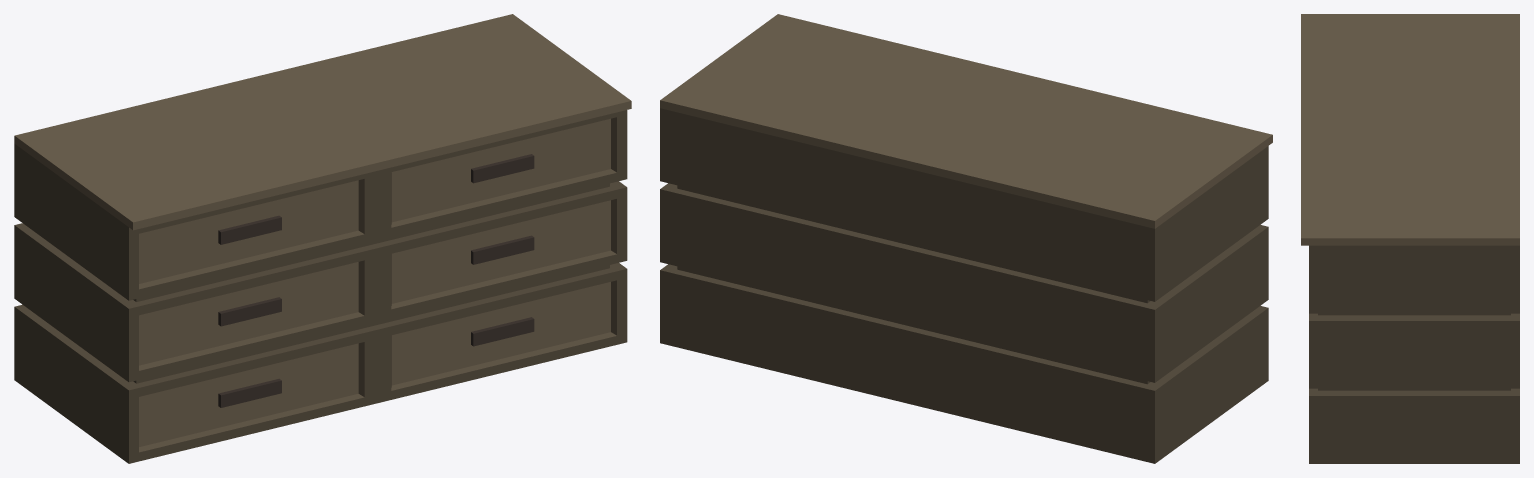
The model's file is quaternius-house-interior-drawer-5.glb.
The picture shows the model from 3 angles, left to right: view 1: azimuth 30°, elevation 25°; view 2: azimuth 150°, elevation 25°; view 3: azimuth 270°, elevation 25°; orthographic projection. The views are drawn at different scales.
Parts seen in each view (by area): view 1: Drawer_5; view 2: Drawer_5; view 3: Drawer_5.
Boxes of the visible parts, x1,y1,x2,y2 form: Drawer_5: [14, 14, 631, 463]; Drawer_5: [660, 14, 1272, 463]; Drawer_5: [1301, 14, 1519, 463].
Bounding box in the file's own units: 2.79 × 1.33 × 1.15.
